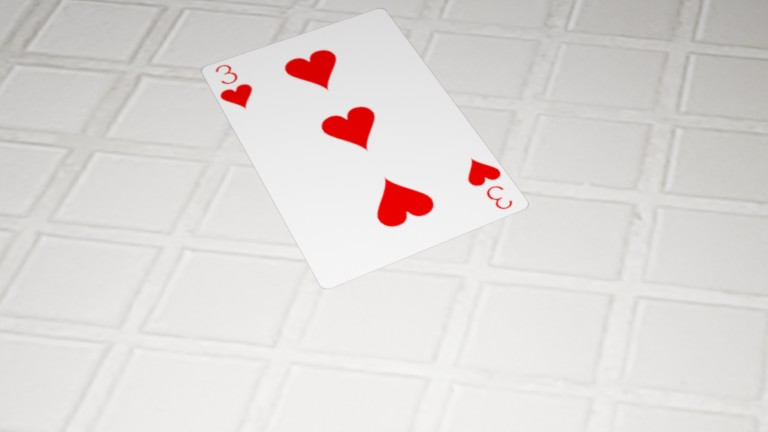3_of_hearts: (181, 61, 211, 88), (81, 24, 106, 46)
